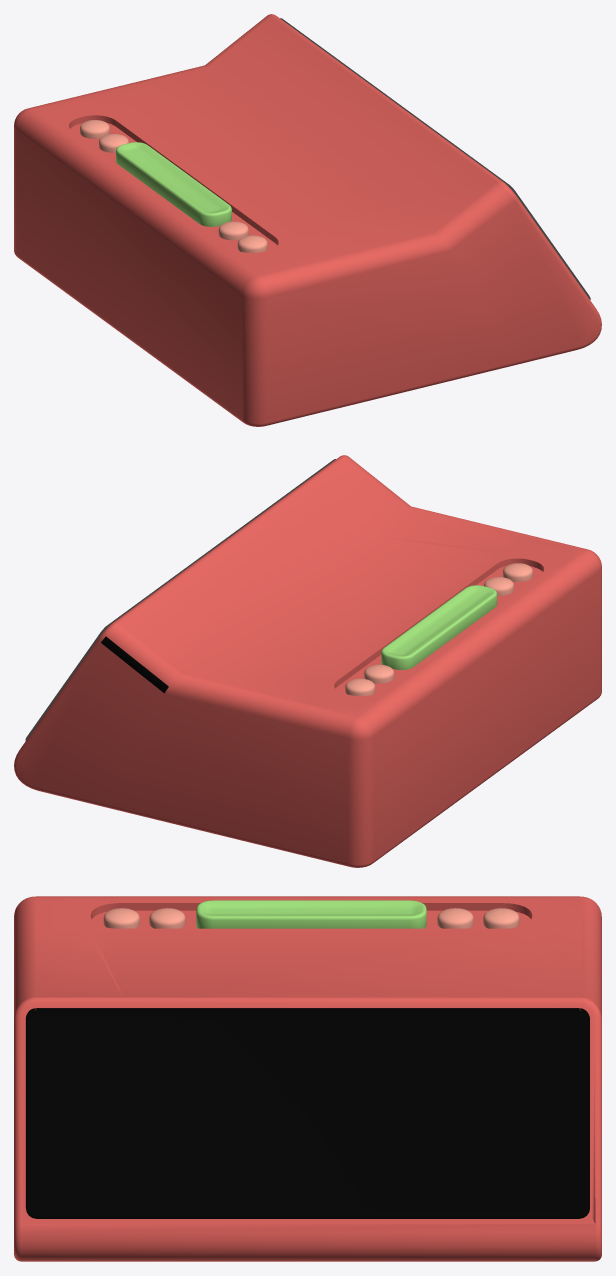
The model's file is clock1.glb.
3 renders of one model, top to bottom at view 1: azimuth 30°, elevation 25°; view 2: azimuth 150°, elevation 25°; view 3: azimuth 270°, elevation 25°, orthographic. The views are drawn at different scales.
Parts seen in each view (by area): view 1: Cube_3; view 2: Cube_3; view 3: Cube_3.
Boxes of the visible parts, box(x1,y1,x2,y2) form: Cube_3: box(14, 14, 601, 426); Cube_3: box(14, 455, 601, 867); Cube_3: box(14, 896, 601, 1261).
Size of the model in its own units: 1.67 by 0.8475 by 2.
